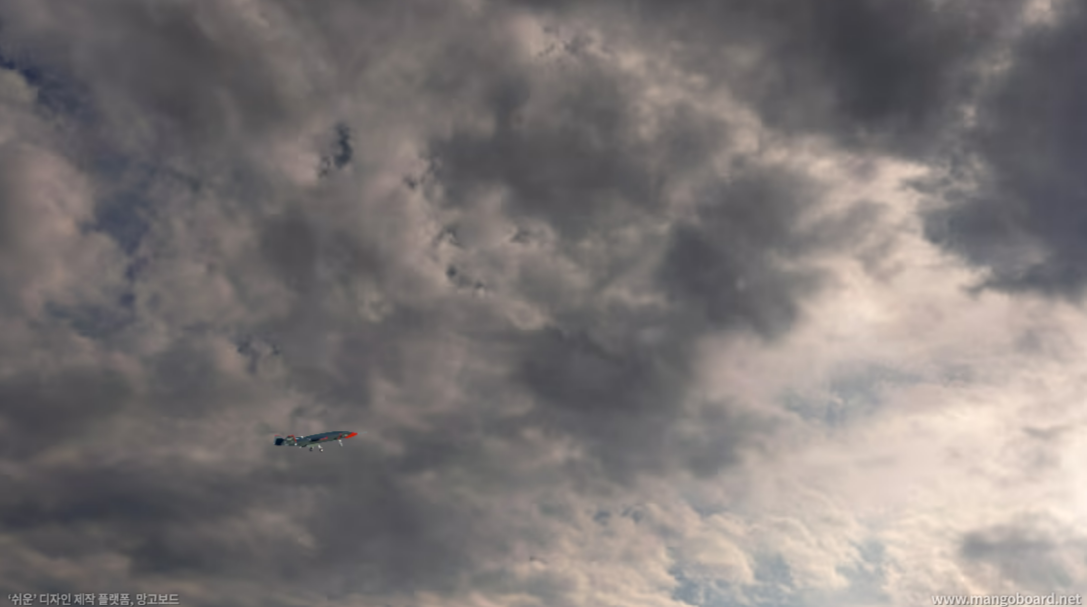military drone: (272, 430, 358, 452)
